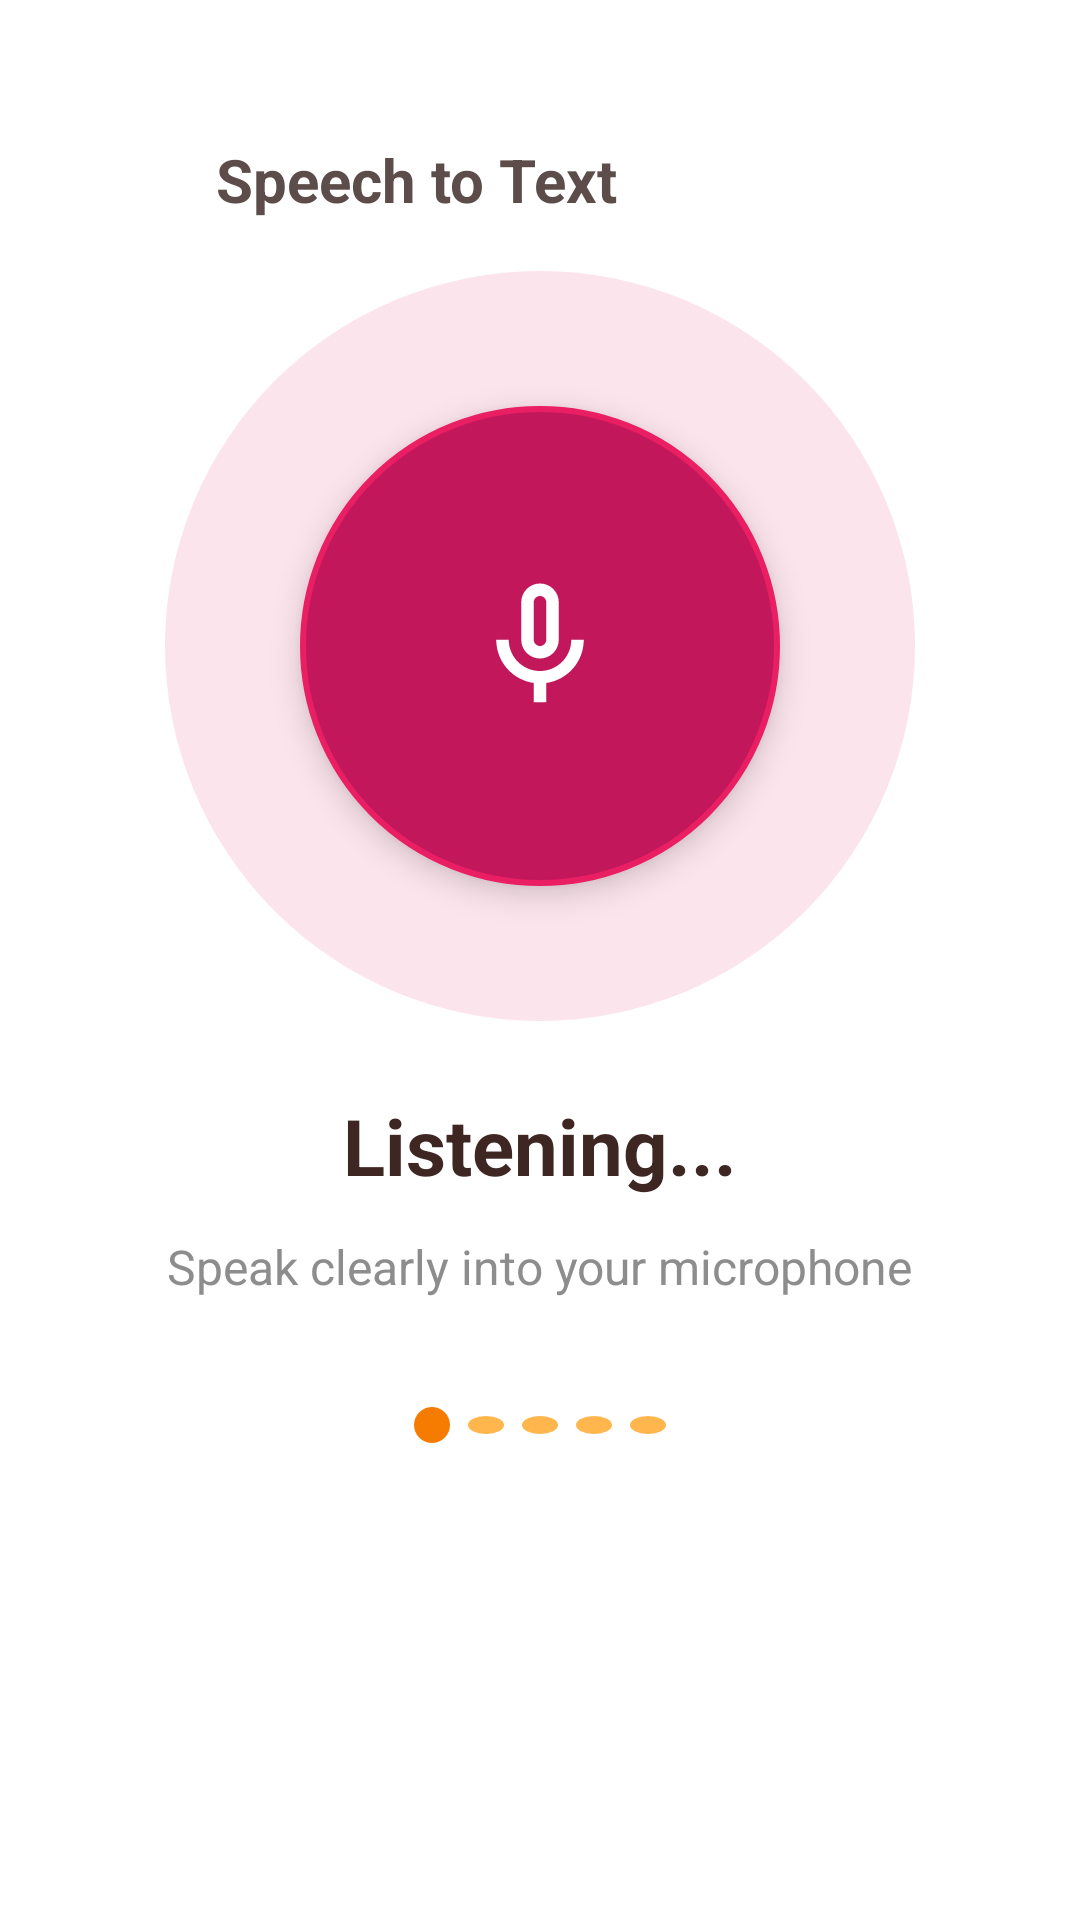

Icon click points for this 1080 × 1920 phone screenshot, format [x,y]:
mic: [540,643]
